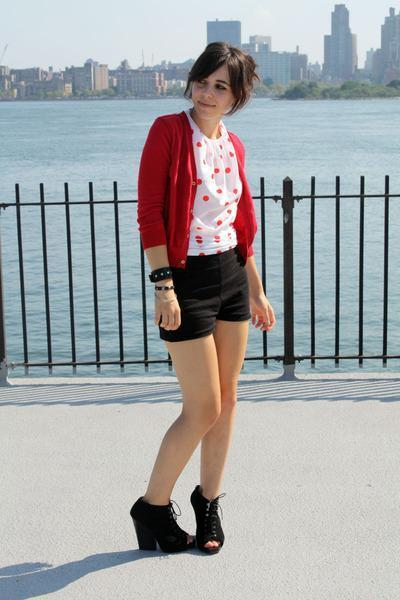Shorts: (152, 247, 257, 343)
short sleeve shirt: (176, 121, 238, 258)
sweater: (129, 112, 256, 268)
